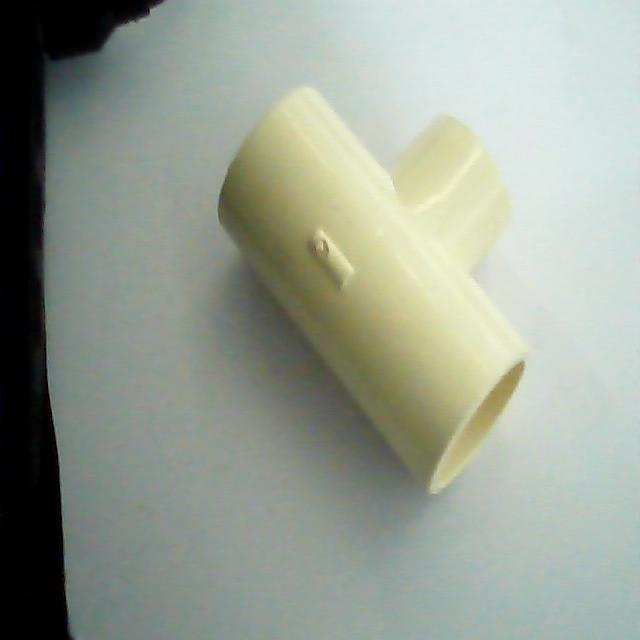T Joint: (216, 86, 531, 497)
